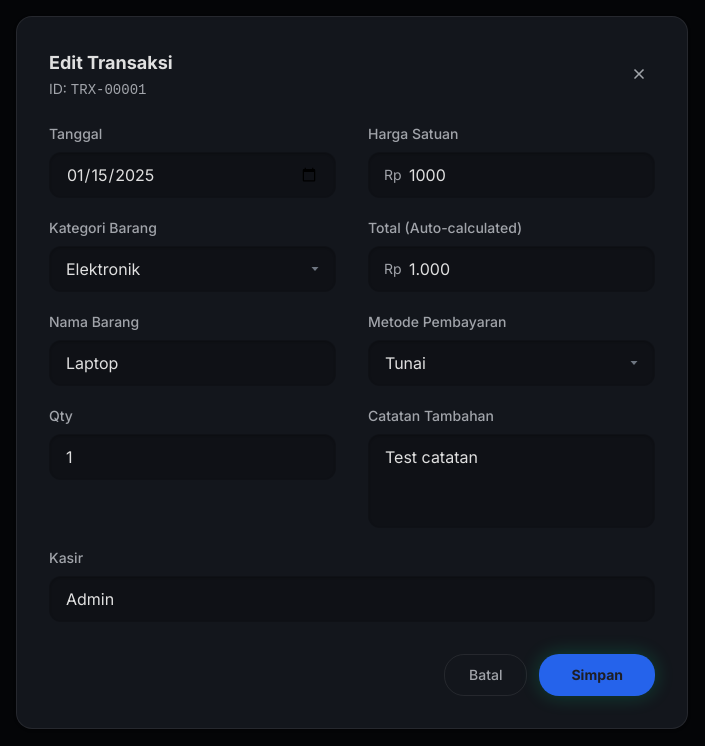
Task 9 — Unit Tests: EditTransactionModal › 9.4: mengubah qty atau hargaSatuan memperbarui total
The image size is (705, 746).
Step 1. Replace the text in the number field with id "edit-qty" with "2" → (192, 456), box [49,434,336,480]
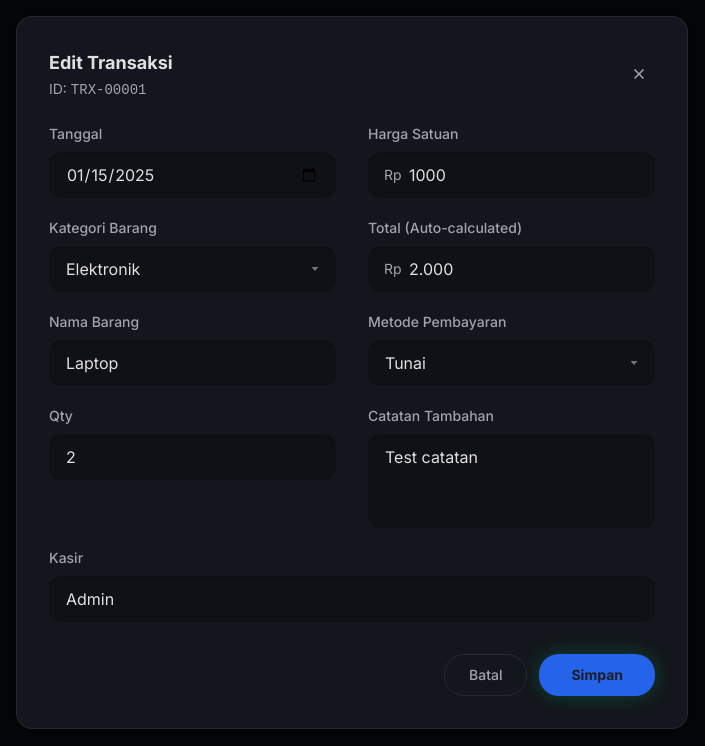
Step 2. Replace the text in the number field with id "edit-hargaSatuan" with "5000000" → (512, 174), box [368,152,655,198]
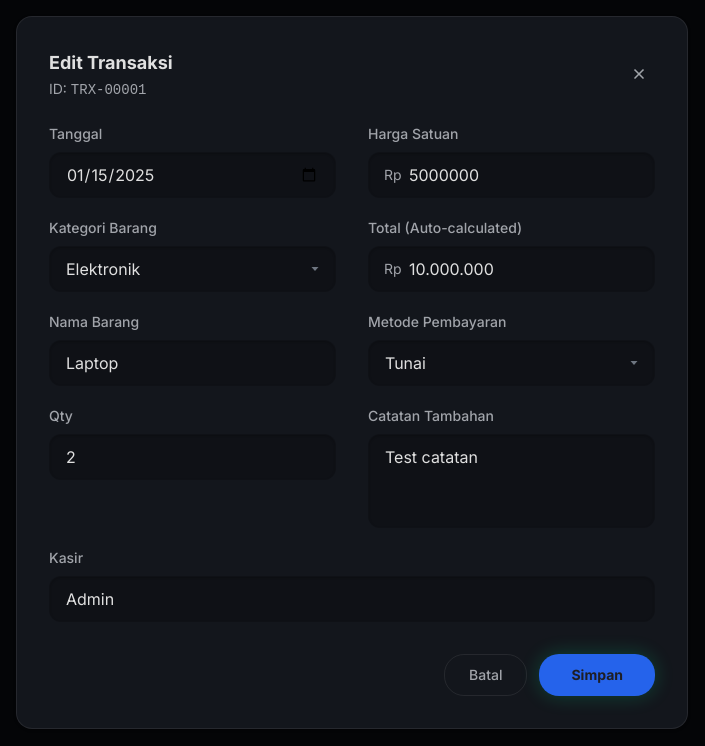
Expected: the field with test id "total-display" does not hold "0", [368,246,655,292]
